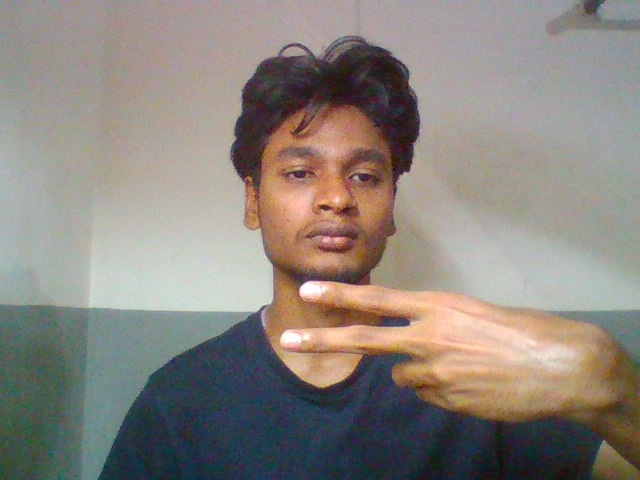F: (266, 260, 640, 441)
